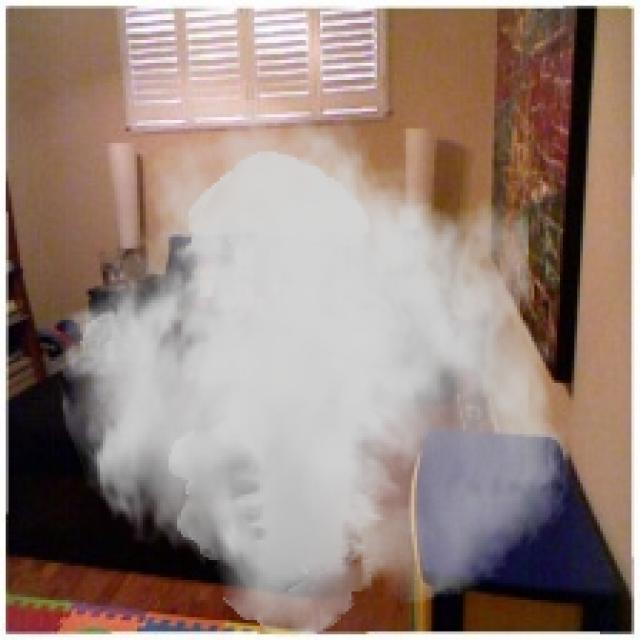Smoke: (54, 97, 574, 637)
